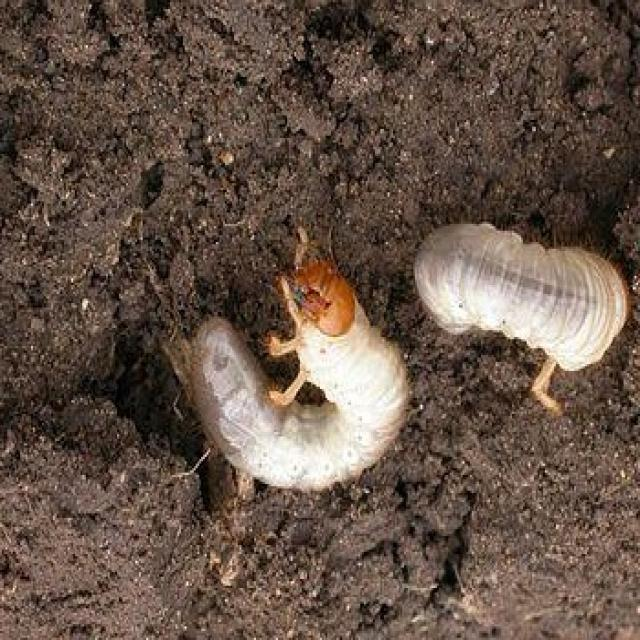grub: (169, 249, 412, 495), (413, 206, 631, 389)
